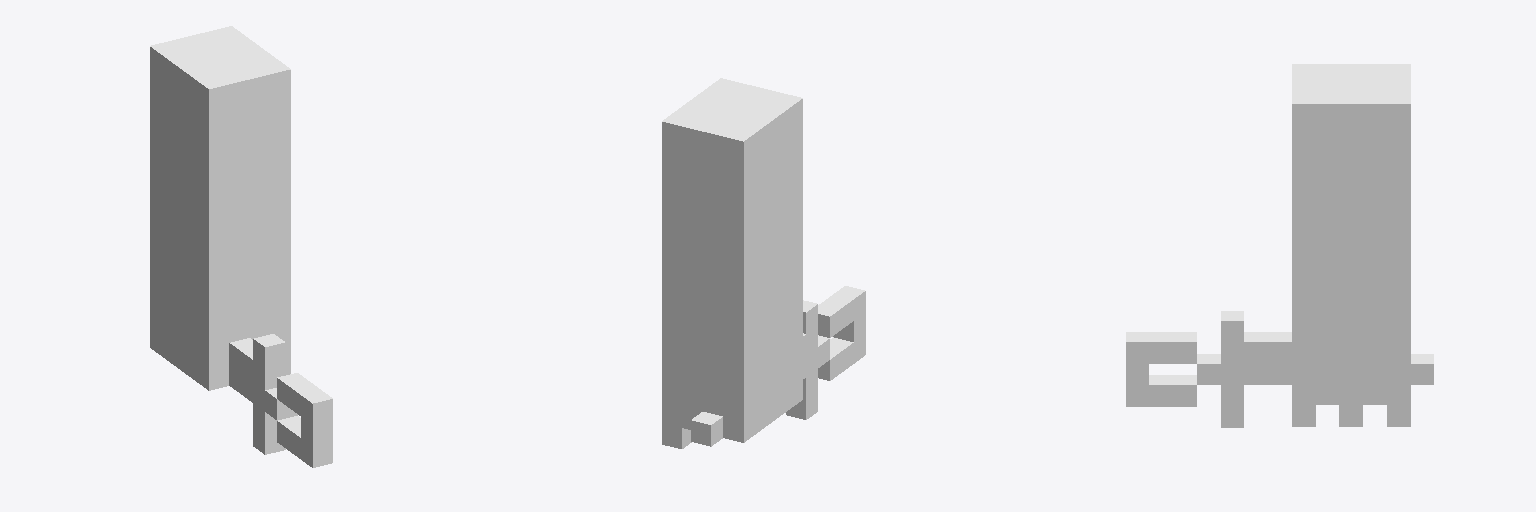
File: Gor-3.obj
3 views of the same model, side by side, from view 1: azimuth 30°, elevation 25°; view 2: azimuth 150°, elevation 25°; view 3: azimuth 270°, elevation 25° (orthographic).
Visible parts, largest first — view 1: object 1; view 2: object 1; view 3: object 1.
Part boxes in pixels (x1,y1,x2,y2): object 1: (150, 26, 332, 467); object 1: (662, 78, 865, 448); object 1: (1126, 64, 1433, 427).
Bounding box in the file's own units: 0.4 × 1.6 × 1.3.